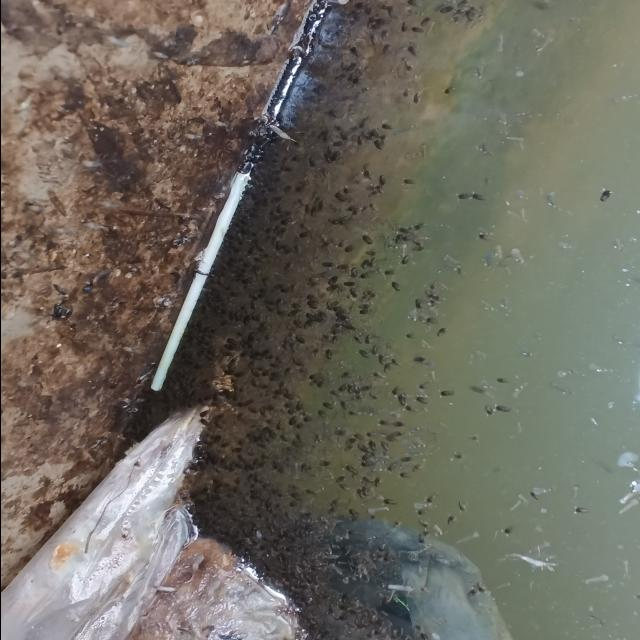Breeding Place: (181, 0, 640, 640)
